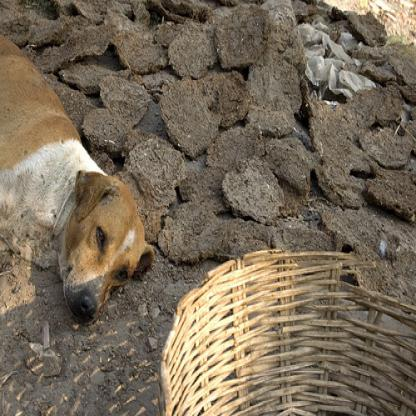dog: (0, 31, 154, 324)
